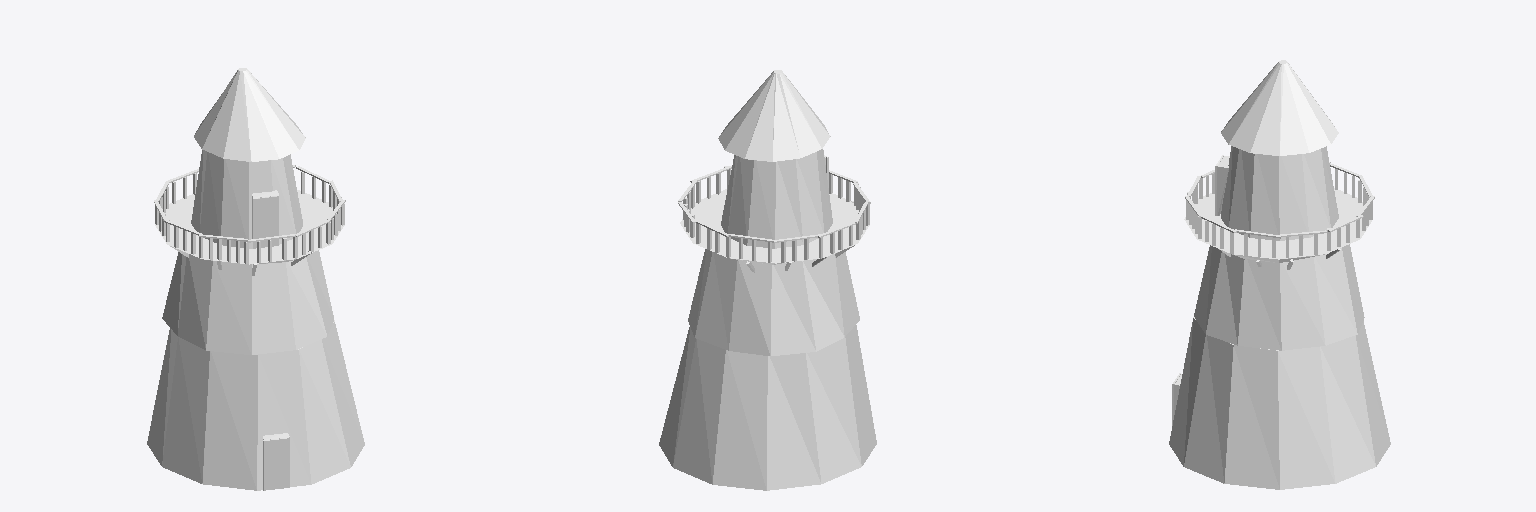
Rendered from molino2.obj.
3 views of the same model, side by side, from view 1: azimuth 30°, elevation 25°; view 2: azimuth 150°, elevation 25°; view 3: azimuth 270°, elevation 25° (orthographic).
Parts seen in each view (by area): view 1: Model_85, Model_80, Model_11, Model_79, Model_1, Model_75, Model_81; view 2: Model_85, Model_80, Model_11, Model_79, Model_1; view 3: Model_85, Model_80, Model_11, Model_79, Model_1.
Part boxes in pixels (left/top/right/bottom): Model_85: left=147, top=320, right=364, bottom=490; Model_80: left=162, top=250, right=333, bottom=354; Model_11: left=191, top=150, right=302, bottom=248; Model_79: left=194, top=68, right=305, bottom=161; Model_1: left=155, top=190, right=344, bottom=264; Model_75: left=263, top=438, right=289, bottom=490; Model_81: left=253, top=196, right=278, bottom=248; Model_85: left=659, top=325, right=876, bottom=490; Model_80: left=688, top=249, right=859, bottom=355; Model_11: left=721, top=149, right=832, bottom=248; Model_79: left=718, top=70, right=830, bottom=161; Model_1: left=680, top=189, right=869, bottom=264; Model_85: left=1169, top=317, right=1390, bottom=489; Model_80: left=1194, top=244, right=1364, bottom=350; Model_11: left=1221, top=146, right=1338, bottom=240; Model_79: left=1221, top=60, right=1338, bottom=155; Model_1: left=1184, top=188, right=1371, bottom=262.
Bounding box in the file's own units: 1486 × 2845 × 1521.